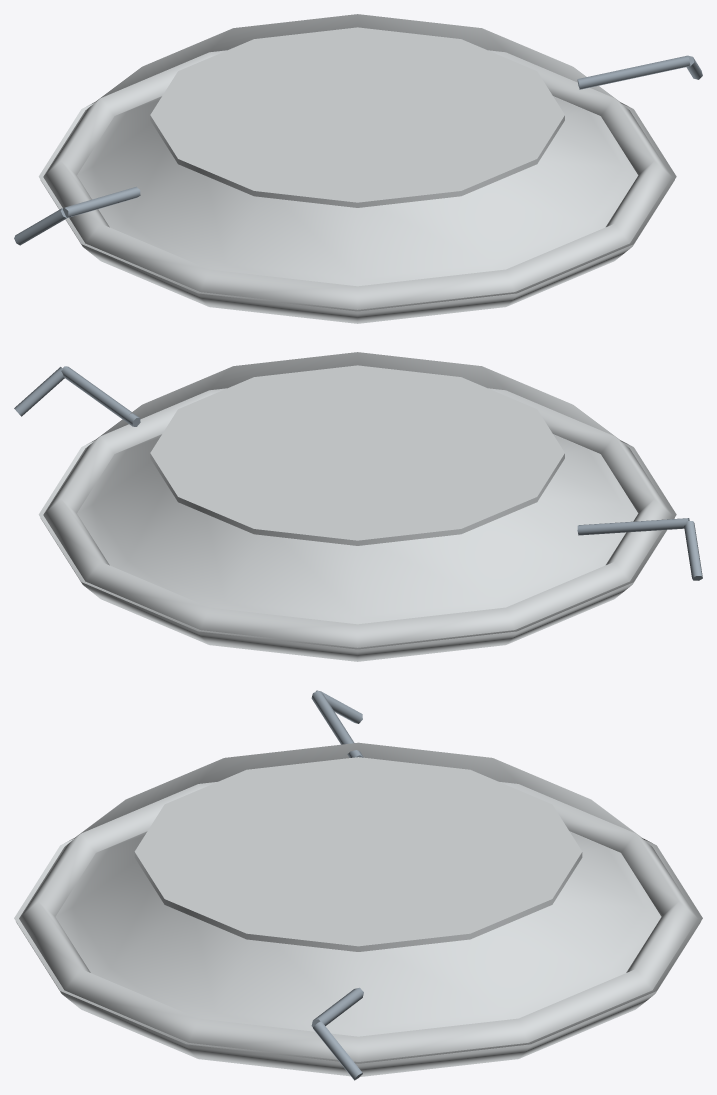
Rendered from source.glb.
The picture shows the model from 3 angles, top to bottom: view 1: azimuth 30°, elevation 25°; view 2: azimuth 150°, elevation 25°; view 3: azimuth 270°, elevation 25°; orthographic projection. The views are drawn at different scales.
Parts seen in each view (by area): view 1: 粉末涂层铝壳, 机加工金属; view 2: 粉末涂层铝壳, 机加工金属; view 3: 粉末涂层铝壳, 机加工金属.
Part boxes in pixels (x1,y1,x2,y2): 粉末涂层铝壳: (38, 14, 676, 323); 机加工金属: (14, 55, 702, 245); 粉末涂层铝壳: (38, 352, 676, 661); 机加工金属: (14, 366, 702, 580); 粉末涂层铝壳: (14, 742, 702, 1076); 机加工金属: (311, 690, 363, 1080).
Bounding box in the file's own units: 0.2115 × 0.0245 × 0.17.
